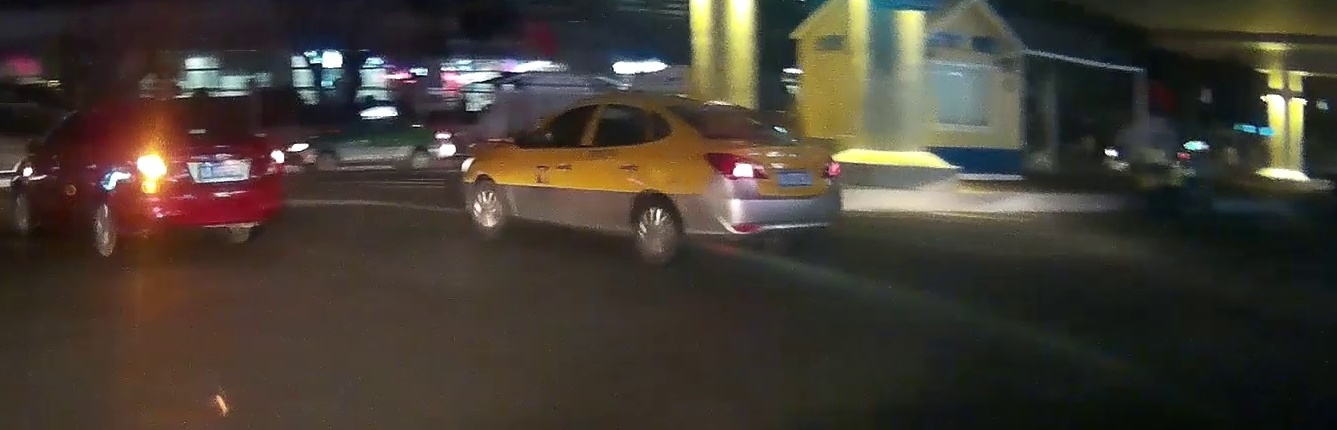L_light: (702, 153, 770, 180), (139, 158, 174, 181)
R_light: (261, 150, 283, 176), (824, 156, 840, 178)
T_light: (708, 107, 729, 111), (178, 114, 199, 118)
night-left: (132, 105, 286, 258)
night-no: (663, 100, 840, 269)
